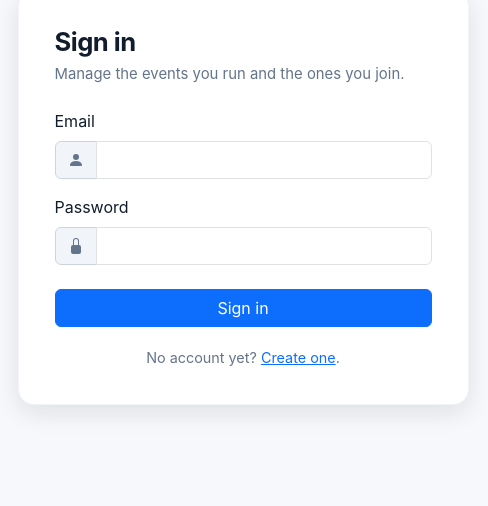
Scenario: SignIn › refuses a 200 that carries no Authorization header
Type "ada@example.com" into the field labelled "Email". click: (264, 160)
box: [96, 141, 432, 179]
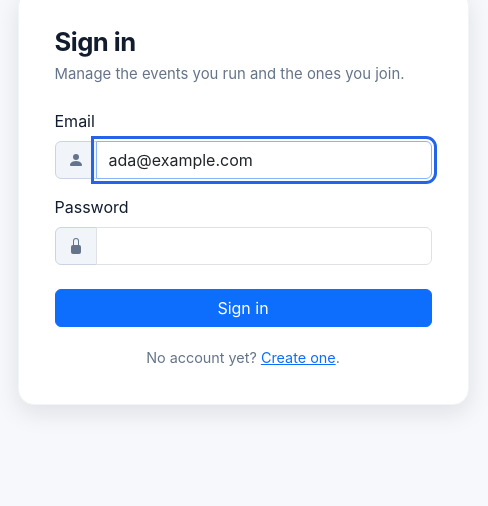
Type "password123" into the password field labelled "Password". click: (264, 246)
box: [96, 227, 432, 265]
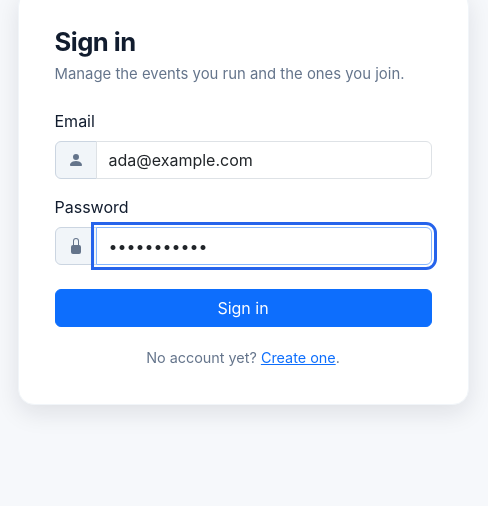
Click the button "Sign in". click: (243, 308)
box: [54, 289, 432, 327]
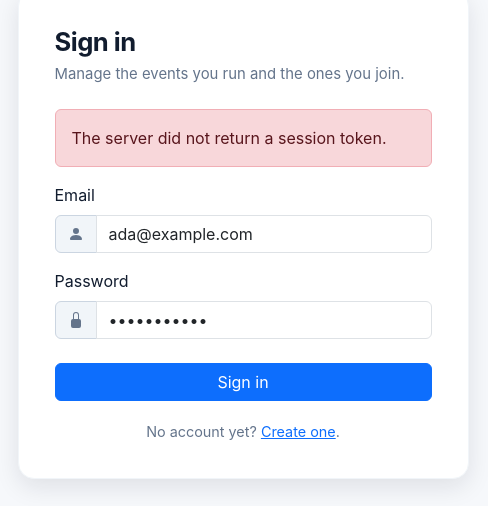
Now the message shows "did not return a session token", box [72, 128, 386, 148]
